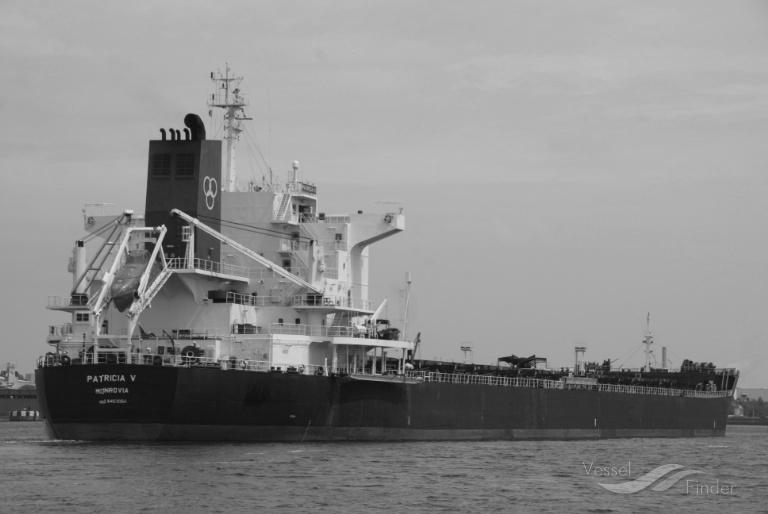OCR: (78, 369, 149, 418)
